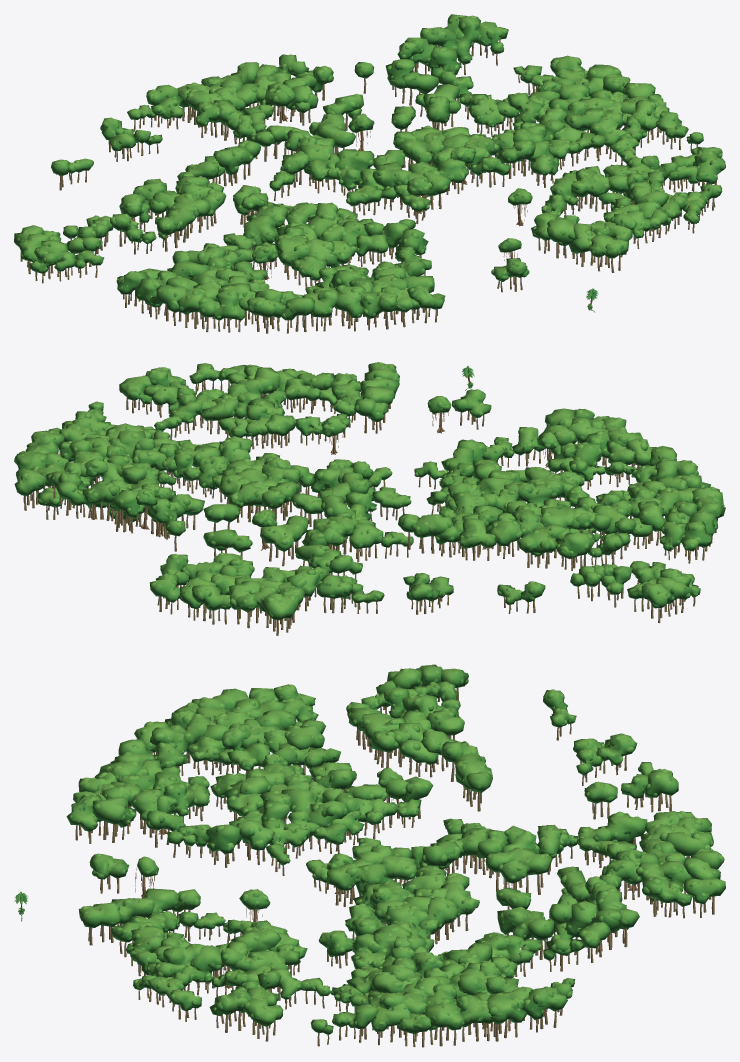
File: plants.glb
3 views of the same model, one above another, from view 1: azimuth 30°, elevation 25°; view 2: azimuth 150°, elevation 25°; view 3: azimuth 270°, elevation 25° (orthographic). The views are drawn at different scales.
Visible parts, largest first — view 1: canopyfar_2_3, canopyfar_4_2, canopyfar_3_2, canopyfar_4_3, canopyfar_1_3, canopyfar_2_2, canopyfar_3_3, canopyfar_1_2, canopy_2_3, canopy_4_3, canopy_4_2, canopy_3_2 (+15 smaller); view 2: canopyfar_2_3, canopyfar_3_2, canopyfar_4_2, canopyfar_1_3, canopyfar_4_3, canopyfar_2_2, canopyfar_3_3, canopyfar_1_2, canopy_3_2, canopy_2_3, canopy_4_2, canopyfar_3_1 (+15 smaller); view 3: canopyfar_2_3, canopyfar_4_2, canopyfar_3_2, canopyfar_4_3, canopyfar_1_3, canopyfar_2_2, canopy_2_3, canopyfar_3_3, canopy_4_2, canopy_4_3, canopyfar_3_1, canopyfar_2_1 (+14 smaller).
Part boxes in pixels (box(x1,y1,x2,y2)): canopyfar_2_3: box(201, 185, 431, 304); canopyfar_4_2: box(439, 16, 678, 145); canopyfar_3_2: box(287, 37, 514, 190); canopyfar_4_3: box(546, 111, 725, 219); canopyfar_1_3: box(117, 193, 277, 320); canopyfar_2_2: box(108, 102, 339, 215); canopyfar_3_3: box(372, 140, 639, 240); canopyfar_1_2: box(14, 158, 180, 273); canopy_2_3: box(201, 185, 431, 322); canopy_4_3: box(549, 112, 725, 235); canopy_4_2: box(438, 15, 664, 165); canopy_3_2: box(290, 40, 516, 205); canopyfar_2_3: box(372, 427, 656, 526); canopyfar_3_2: box(107, 456, 376, 560); canopyfar_4_2: box(14, 417, 220, 522); canopyfar_1_3: box(540, 459, 725, 551); canopyfar_4_3: box(75, 363, 295, 450); canopyfar_2_2: box(280, 509, 543, 597); canopyfar_3_3: box(205, 378, 390, 501); canopyfar_1_2: box(497, 524, 700, 607); canopy_3_2: box(110, 456, 376, 568); canopy_2_3: box(372, 428, 655, 542); canopy_4_2: box(15, 416, 220, 533); canopyfar_3_1: box(149, 520, 285, 610); canopyfar_2_3: box(146, 731, 397, 865); canopyfar_4_2: box(368, 908, 621, 1034); canopyfar_3_2: box(375, 829, 617, 940); canopyfar_4_3: box(146, 927, 390, 1034); canopyfar_1_3: box(152, 684, 406, 768); canopyfar_2_2: box(378, 723, 617, 857); canopy_2_3: box(146, 731, 398, 875); canopyfar_3_3: box(160, 846, 394, 956); canopy_4_2: box(368, 912, 622, 1047); canopy_4_3: box(146, 927, 389, 1046); canopyfar_3_1: box(599, 839, 725, 906); canopyfar_2_1: box(597, 733, 713, 855).
Bounding box in the file's own units: 327 × 36.23 × 276.
